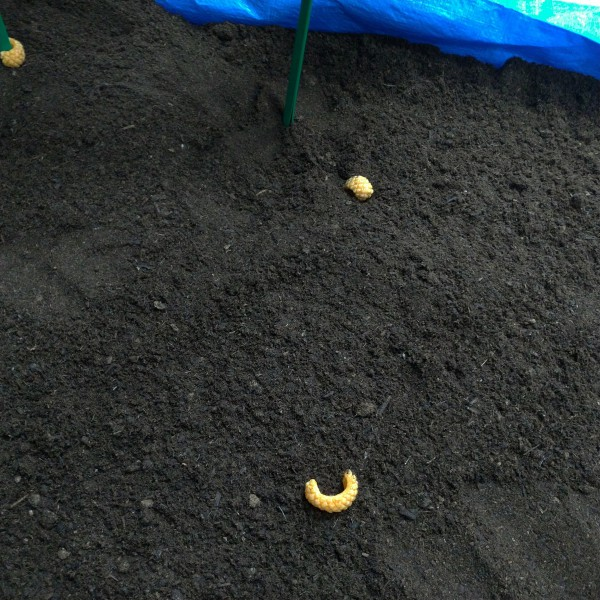eggs: (294, 465, 364, 518), (341, 168, 377, 204), (1, 38, 30, 75)
